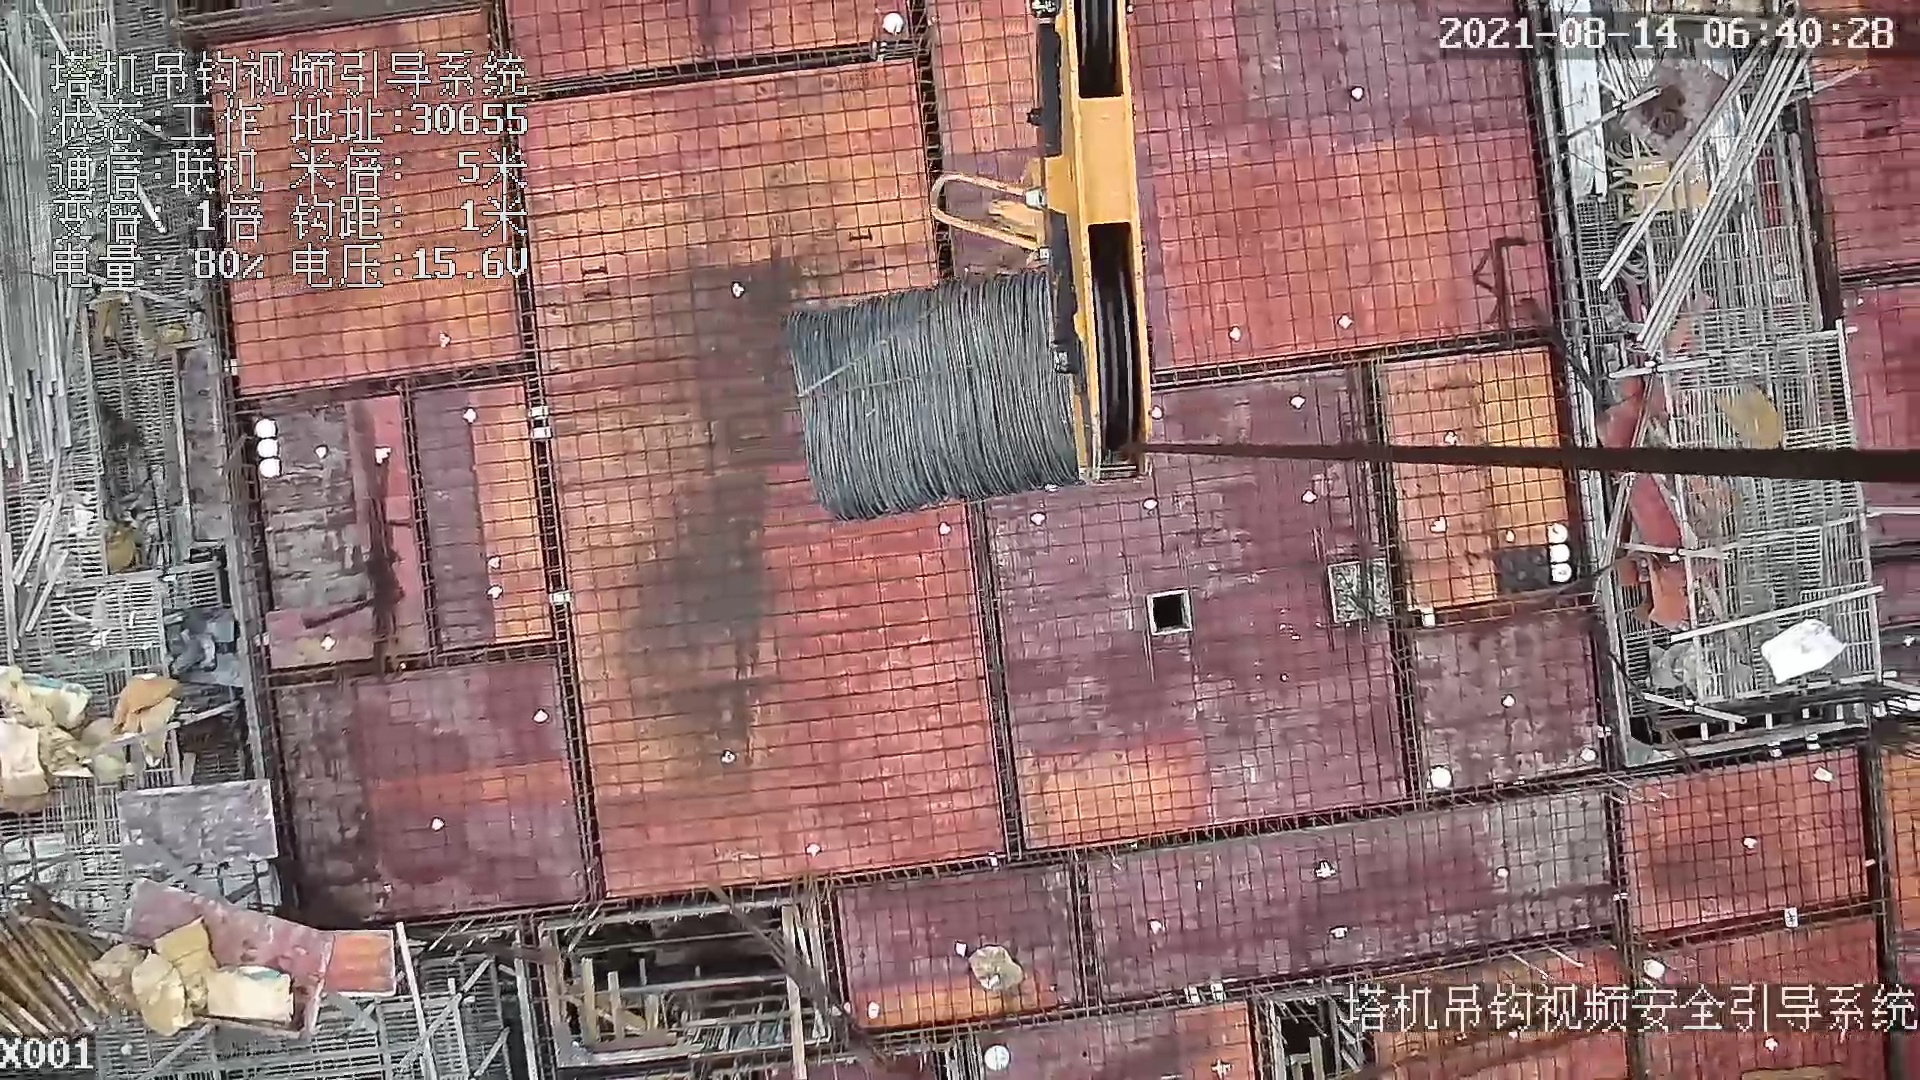hook: (920, 1, 1179, 477)
scaffold: (1, 886, 140, 1036)
